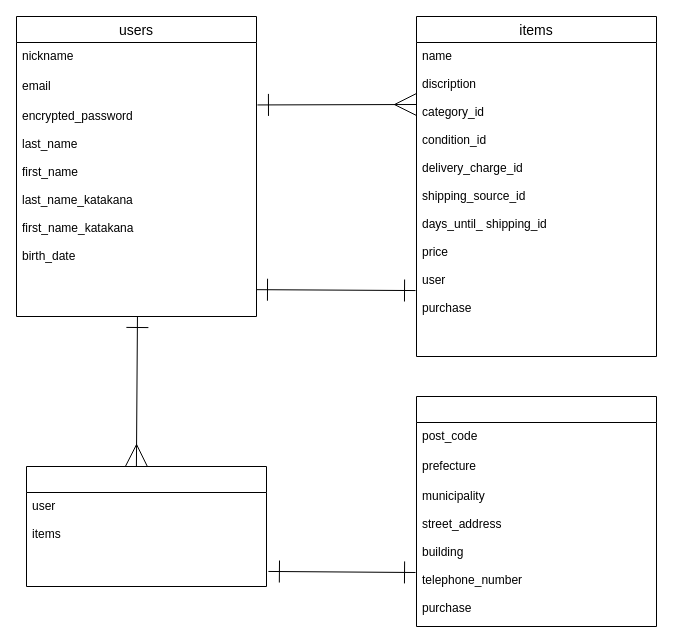
Image size: 673x643. Some labels were removed from this diagram. Each missing label, with the box of its shape:
addresses: (416, 396, 656, 626)
purchases: (26, 466, 266, 586)
